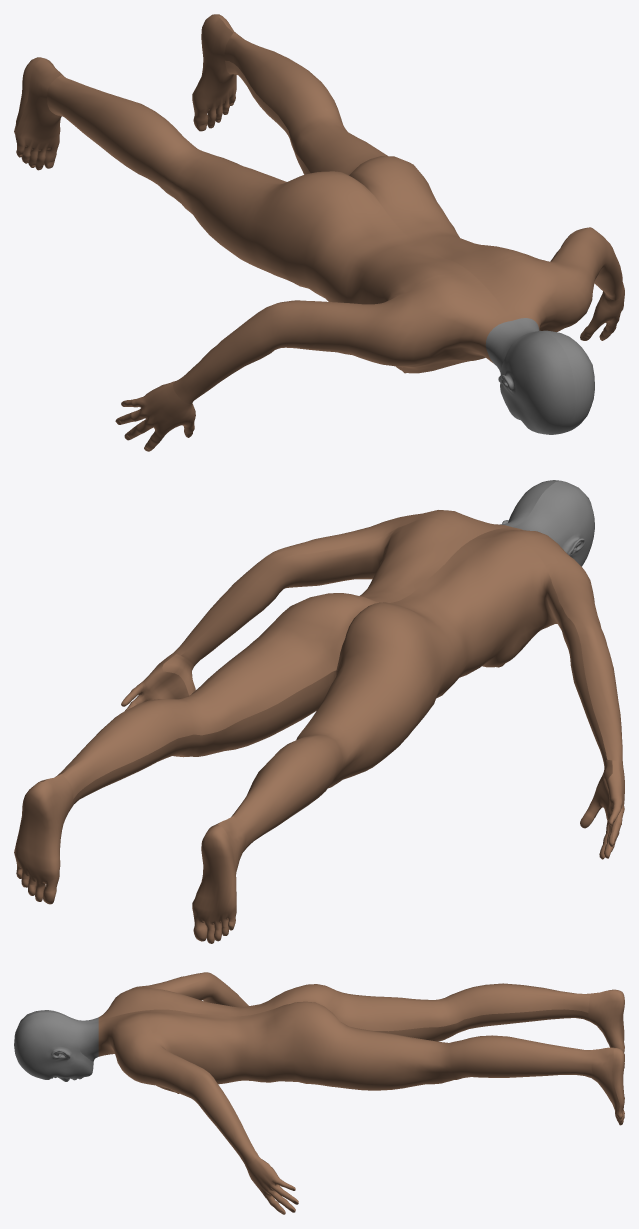
The model's file is nakedmeshdissected.fbx.
3 renders of one model, top to bottom at view 1: azimuth 30°, elevation 25°; view 2: azimuth 150°, elevation 25°; view 3: azimuth 270°, elevation 25°, orthographic. The views are drawn at different scales.
Visible parts, largest first — view 1: torso, legs, arms, head; view 2: legs, torso, arms, head; view 3: legs, torso, arms, head.
Part boxes in pixels (x1,y1,x2,y2): torso: [245, 156, 595, 373]; legs: [14, 14, 387, 270]; arms: [115, 227, 624, 451]; head: [485, 318, 594, 434]; legs: [14, 629, 419, 943]; torso: [258, 510, 594, 728]; arms: [121, 532, 624, 859]; head: [500, 480, 594, 566]; legs: [341, 983, 624, 1125]; torso: [98, 982, 341, 1093]; arms: [157, 972, 298, 1214]; head: [14, 1010, 98, 1081].
Bounding box in the file's own units: 1125 × 460 × 1776.
